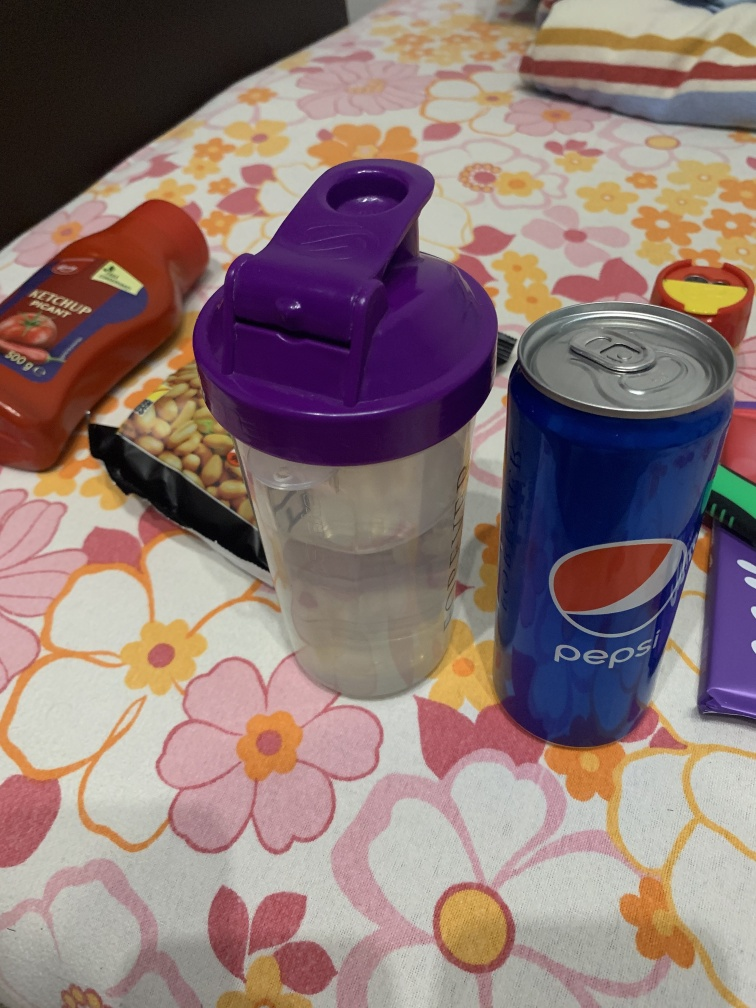ketchup: (4, 194, 213, 478)
milka: (703, 517, 756, 738)
peanuts: (87, 346, 278, 614)
pepsi: (497, 297, 735, 766)
